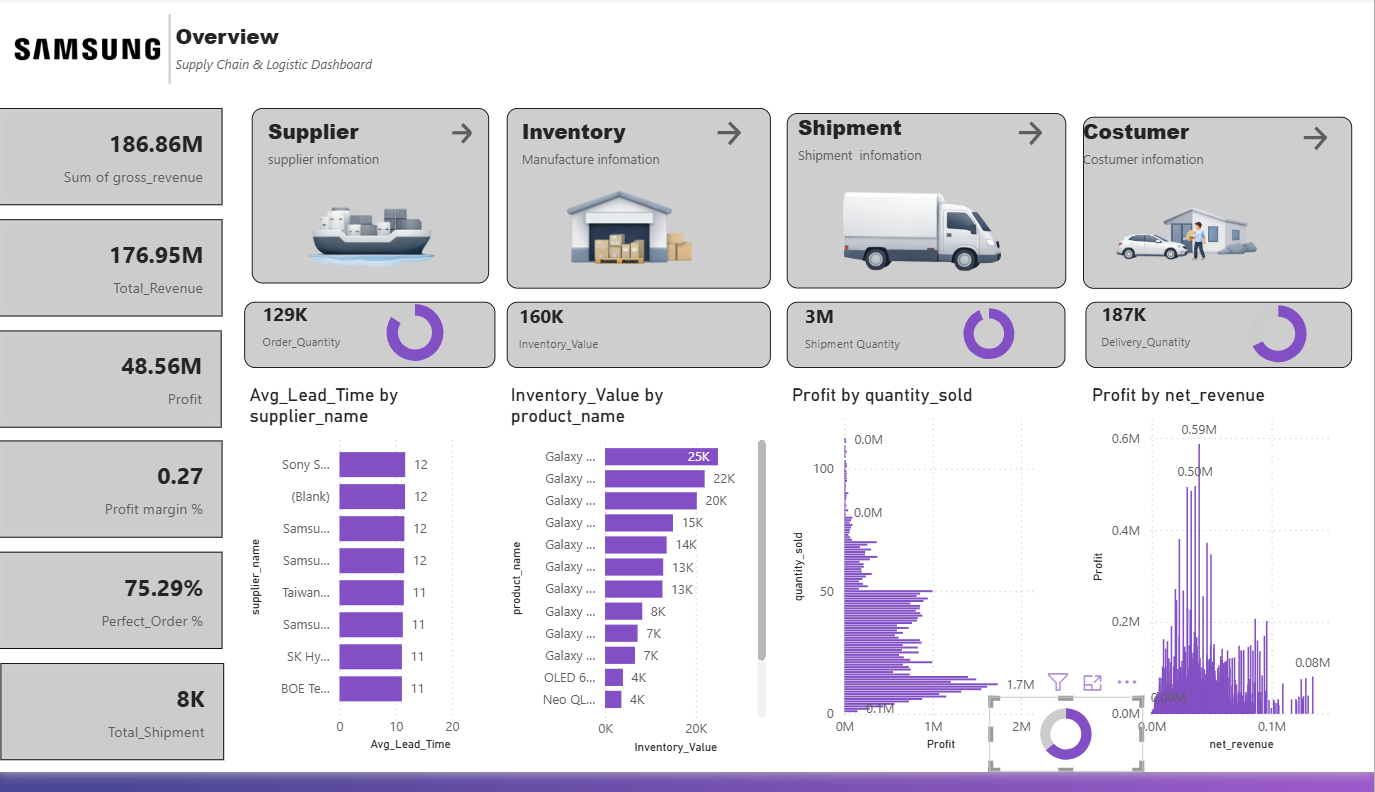

This screenshot's page, from the dashboard's own definition file:
{"tool":"powerbi","page":{"name":"Overview","canvas":[1280,720],"ordinal":0},"visuals":[{"type":"shape","box":[235.6,102.3,220.7,163.2],"z":0},{"type":"image","box":[267.8,173.6,155.2,85.1],"z":1000},{"type":"actionButton","box":[417.2,105.7,27.6,40.2],"z":2000},{"type":"shape","title":"Supplier","box":[251.7,110.3,136.8,59.8],"z":3000},{"type":"shape","title":"Overview","box":[165.5,22.6,257.1,58.3],"z":4000},{"type":"image","box":[0,0,160,95],"z":5000},{"type":"shape","box":[130,15,59,65],"z":6000},{"type":"cardVisual","fields":{"Data":["MeasuresTable.Total_Revenue"]},"box":[0,205.5,209.2,90],"z":7000},{"type":"cardVisual","fields":{"Data":["MeasuresTable.Profit"]},"box":[0,308.7,208,90],"z":8000},{"type":"cardVisual","fields":{"Data":["MeasuresTable.Profit margin %"]},"box":[0,412,209.2,90],"z":9000},{"type":"cardVisual","fields":{"Data":["MeasuresTable.Perfect_Order %"]},"box":[0,515.2,209.2,90],"z":10000},{"type":"cardVisual","fields":{"Data":["Sum(fact_sales.gross_revenue)"]},"box":[0,102.3,209.2,90],"z":11000},{"type":"cardVisual","fields":{"Data":["MeasuresTable.Total_Shipment"]},"box":[2.3,618.4,208,90],"z":12000},{"type":"shape","box":[473.6,102.3,246,167.8],"z":13000},{"type":"shape","box":[733.3,106.9,259.8,163.2],"z":14000},{"type":"shape","box":[1009.2,110.3,250.6,159.8],"z":15000},{"type":"shape","title":"Inventory","box":[487.4,110.3,136.8,59.8],"z":16000},{"type":"shape","title":"Shipment ","box":[743.7,106.9,136.8,59.8],"z":17000},{"type":"shape","title":"Costumer","box":[1009.2,110.3,136.8,59.8],"z":18000},{"type":"image","box":[767.8,152.9,179.3,117.2],"z":19000},{"type":"image","box":[500,150.6,181.6,117.2],"z":20000},{"type":"image","box":[1029.9,165.5,157.5,104.6],"z":21000},{"type":"actionButton","box":[664.3,110.7,36.9,31],"z":22000},{"type":"actionButton","box":[944,110.7,36.9,31],"z":23000},{"type":"actionButton","box":[1209.5,115.5,51.2,31],"z":24000},{"type":"shape","box":[228.6,282.1,233.3,61.9],"z":25000},{"type":"shape","box":[473.8,282.1,245.2,61.9],"z":26000},{"type":"shape","box":[733.3,282.1,259.5,61.9],"z":27000},{"type":"shape","box":[1011.9,282.1,247.6,61.9],"z":28000},{"type":"cardVisual","fields":{"Data":["MeasuresTable.Order_Quantity"]},"box":[228.7,265.5,177,75.9],"z":29000},{"type":"cardVisual","fields":{"Data":["MeasuresTable.Inventory_Value"]},"box":[467.8,267.8,177,75.9],"z":30000},{"type":"cardVisual","fields":{"Data":["MeasuresTable.Total_Shipment_Quantity"]},"box":[733.3,267.8,177,75.9],"z":31000},{"type":"cardVisual","fields":{"Data":["MeasuresTable.Delivery_Qunatity"]},"box":[1009.2,265.5,177,75.9],"z":32000},{"type":"clusteredBarChart","fields":{"Y":["MeasuresTable.Avg_Lead_Time"],"Category":["dim_supplier.supplier_name"]},"box":[228.6,359.5,233.3,346.4],"z":33000},{"type":"clusteredBarChart","fields":{"Y":["MeasuresTable.Inventory_Value"],"Category":["dim_product.product_name"]},"box":[472.6,359.5,247.6,348.8],"z":34000},{"type":"clusteredBarChart","fields":{"Category":["fact_sales.quantity_sold"],"Y":["MeasuresTable.Profit"]},"box":[733.3,359.5,247.6,346.4],"z":35000},{"type":"clusteredColumnChart","fields":{"Category":["fact_sales.net_revenue"],"Y":["MeasuresTable.Profit"]},"box":[1013.1,359.5,247.6,346.4],"z":36000},{"type":"donutChart","fields":{"Y":["MeasuresTable.Inventory_Value","MeasuresTable.Safety_stock"]},"box":[581,277.4,144,70.2],"z":37000},{"type":"donutChart","fields":{"Y":["MeasuresTable.Total_Shipment_Quantity","MeasuresTable.Total_Sales_Quantity"]},"box":[851.2,277.4,141.7,69],"z":38000},{"type":"donutChart","fields":{"Y":["MeasuresTable.Delivery_Qunatity","MeasuresTable.Safety_stock"]},"box":[1102.4,275,177.4,76.2],"z":39000},{"type":"donutChart","fields":{"Y":["MeasuresTable.Order_Quantity","MeasuresTable.Defect_rate"]},"box":[300,273.8,176.2,76.2],"z":40000}]}

Visuals, with their boxes in screenshot pixels (x1, y1, x2, y2), scaled from the page's 1280x720 canvas onto the 1375x792 screenshot:
shape: <region>253, 113, 490, 292</region>
image: <region>288, 191, 454, 285</region>
actionButton: <region>448, 116, 478, 160</region>
"Supplier" shape: <region>270, 121, 417, 187</region>
"Overview" shape: <region>178, 25, 454, 89</region>
image: <region>0, 0, 172, 105</region>
shape: <region>140, 16, 203, 88</region>
cardVisual - MeasuresTable.Total_Revenue: <region>0, 226, 225, 325</region>
cardVisual - MeasuresTable.Profit: <region>0, 340, 223, 439</region>
cardVisual - MeasuresTable.Profit margin %: <region>0, 453, 225, 552</region>
cardVisual - MeasuresTable.Perfect_Order %: <region>0, 567, 225, 666</region>
cardVisual - Sum(fact_sales.gross_revenue): <region>0, 113, 225, 212</region>
cardVisual - MeasuresTable.Total_Shipment: <region>2, 680, 226, 779</region>
shape: <region>509, 113, 773, 297</region>
shape: <region>788, 118, 1067, 297</region>
shape: <region>1084, 121, 1353, 297</region>
"Inventory" shape: <region>524, 121, 671, 187</region>
"Shipment " shape: <region>799, 118, 946, 183</region>
"Costumer" shape: <region>1084, 121, 1231, 187</region>
image: <region>825, 168, 1017, 297</region>
image: <region>537, 166, 732, 295</region>
image: <region>1106, 182, 1276, 297</region>
actionButton: <region>714, 122, 753, 156</region>
actionButton: <region>1014, 122, 1054, 156</region>
actionButton: <region>1299, 127, 1354, 161</region>
shape: <region>246, 310, 496, 378</region>
shape: <region>509, 310, 772, 378</region>
shape: <region>788, 310, 1066, 378</region>
shape: <region>1087, 310, 1353, 378</region>
cardVisual - MeasuresTable.Order_Quantity: <region>246, 292, 436, 376</region>
cardVisual - MeasuresTable.Inventory_Value: <region>503, 295, 693, 378</region>
cardVisual - MeasuresTable.Total_Shipment_Quantity: <region>788, 295, 978, 378</region>
cardVisual - MeasuresTable.Delivery_Qunatity: <region>1084, 292, 1274, 376</region>
clusteredBarChart - MeasuresTable.Avg_Lead_Time x dim_supplier.supplier_name: <region>246, 395, 496, 776</region>
clusteredBarChart - MeasuresTable.Inventory_Value x dim_product.product_name: <region>508, 395, 774, 779</region>
clusteredBarChart - fact_sales.quantity_sold x MeasuresTable.Profit: <region>788, 395, 1054, 776</region>
clusteredColumnChart - fact_sales.net_revenue x MeasuresTable.Profit: <region>1088, 395, 1354, 776</region>
donutChart - MeasuresTable.Inventory_Value x MeasuresTable.Safety_stock: <region>624, 305, 779, 382</region>
donutChart - MeasuresTable.Total_Shipment_Quantity x MeasuresTable.Total_Sales_Quantity: <region>914, 305, 1067, 381</region>
donutChart - MeasuresTable.Delivery_Qunatity x MeasuresTable.Safety_stock: <region>1184, 302, 1374, 386</region>
donutChart - MeasuresTable.Order_Quantity x MeasuresTable.Defect_rate: <region>322, 301, 512, 385</region>
